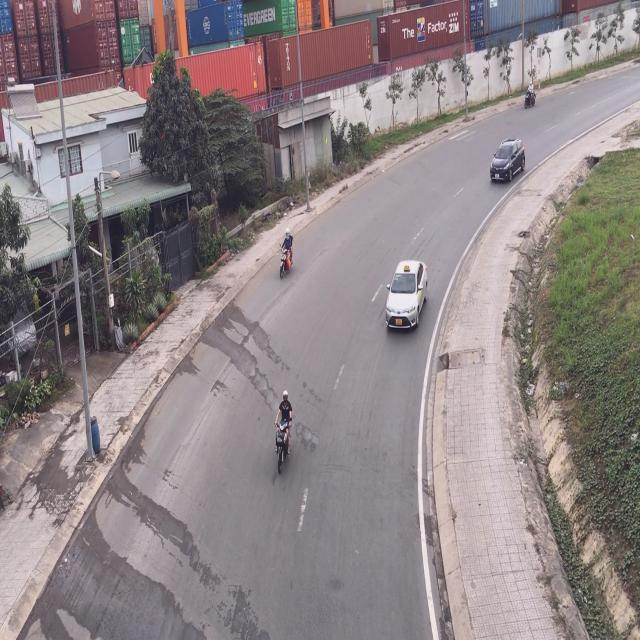car: (382, 258, 426, 332), (488, 138, 524, 184)
motorbike: (274, 391, 296, 474), (278, 232, 296, 284), (523, 81, 537, 109)
